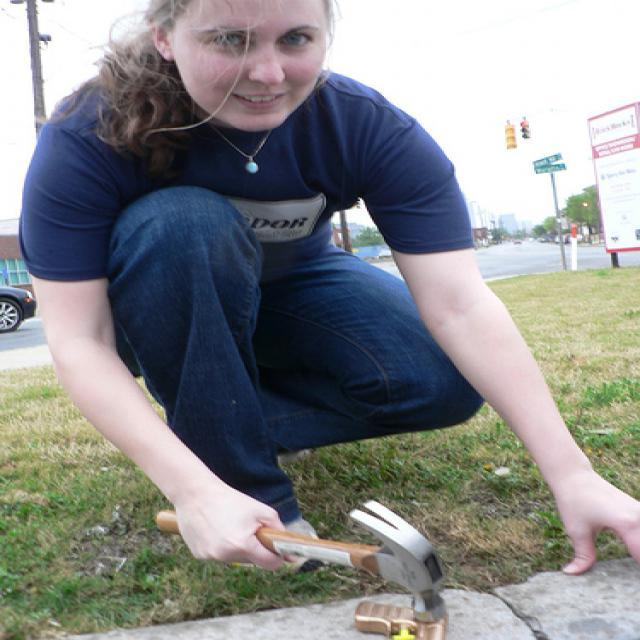hammer: (144, 496, 450, 626)
